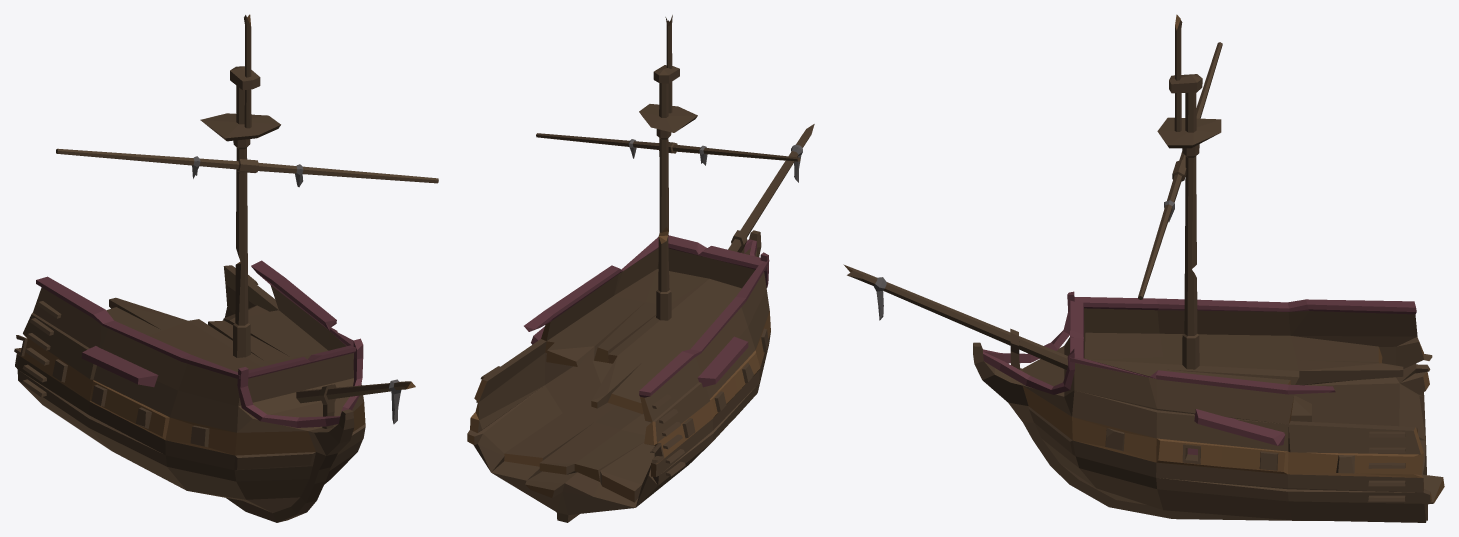
File: ship-pirate-vreck-front.fbx
The picture shows the model from 3 angles, left to right: view 1: azimuth 30°, elevation 25°; view 2: azimuth 150°, elevation 25°; view 3: azimuth 270°, elevation 25°; orthographic projection. The views are drawn at different scales.
Visible parts, largest first — view 1: ship-pirate-vreck-front; view 2: ship-pirate-vreck-front; view 3: ship-pirate-vreck-front.
Part boxes in pixels (<box>): ship-pirate-vreck-front: <box>14,14,438,522</box>; ship-pirate-vreck-front: <box>467,15,814,522</box>; ship-pirate-vreck-front: <box>843,14,1444,522</box>.
Size of the model in its own units: 11.72 by 16.23 by 17.6.
